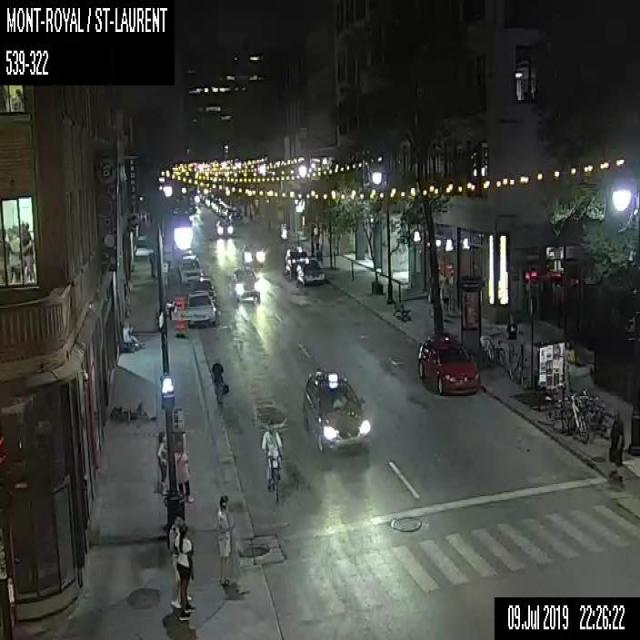construction: (173, 295, 185, 338)
cyclist: (261, 416, 283, 504)
pedestrian: (216, 489, 234, 584), (177, 515, 192, 622), (165, 508, 179, 607), (608, 409, 626, 484), (209, 354, 229, 409), (175, 440, 192, 500), (155, 426, 167, 494), (506, 312, 518, 355), (441, 278, 448, 314)
vehicle: (301, 360, 370, 459), (414, 329, 481, 395), (184, 288, 217, 327), (230, 266, 263, 304), (292, 260, 324, 285), (241, 236, 267, 266), (284, 245, 306, 276), (180, 253, 201, 280), (210, 214, 233, 238), (187, 277, 216, 292)
